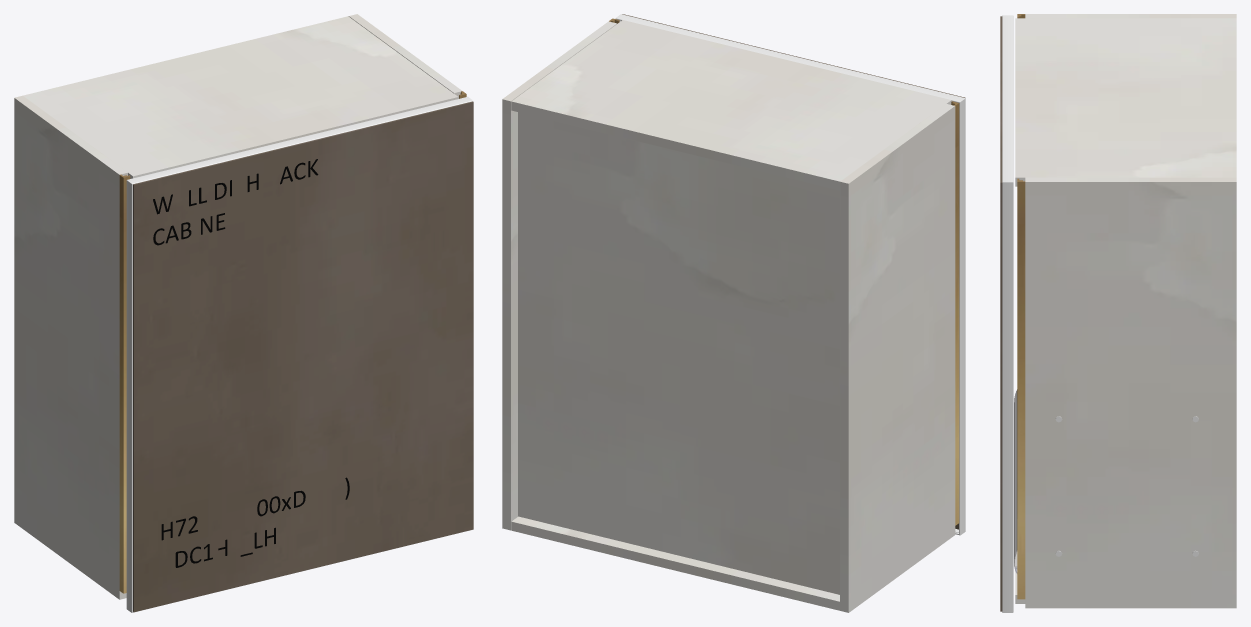
Rendered from WDC1HS_LH (H720XW600XD336).glb.
3 views of the same model, side by side, from view 1: azimuth 30°, elevation 25°; view 2: azimuth 150°, elevation 25°; view 3: azimuth 270°, elevation 25° (orthographic).
Size of what is drawn, in the model's own units: 0.601 by 0.7185 by 0.366.
Materials: 10 (3 with a texture image).
